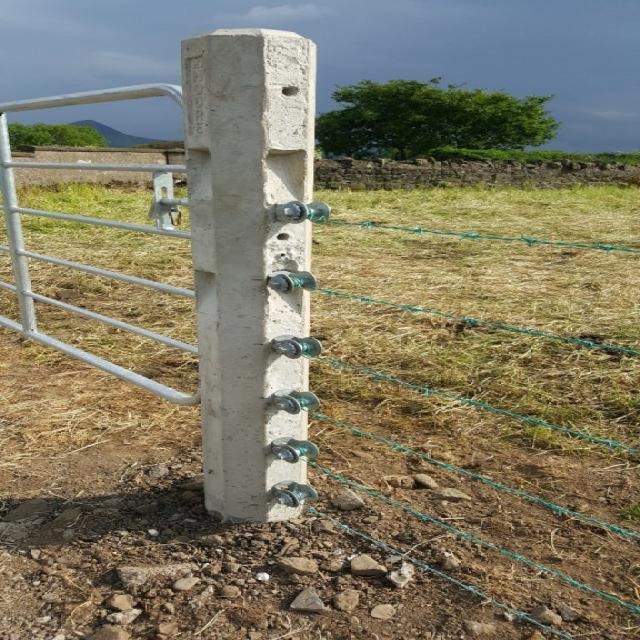fence: (268, 194, 639, 639)
